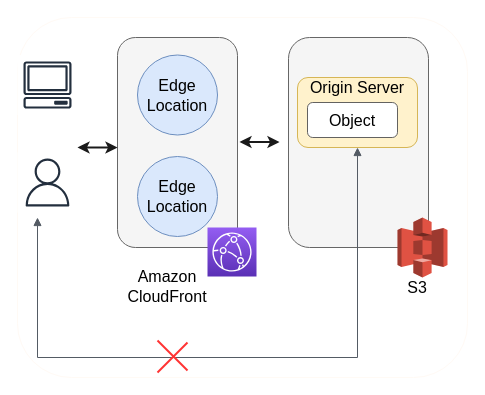
Image size: 485x395. Some labels were removed from this diagram. Each missing label, with the centre of its shape:
Client: [47,84]
User: [47,182]
